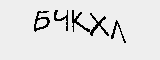Б: (31, 6, 53, 32)
К: (70, 9, 90, 38)
Л: (108, 18, 126, 43)
Х: (88, 12, 109, 39)
Ч: (52, 10, 71, 32)
